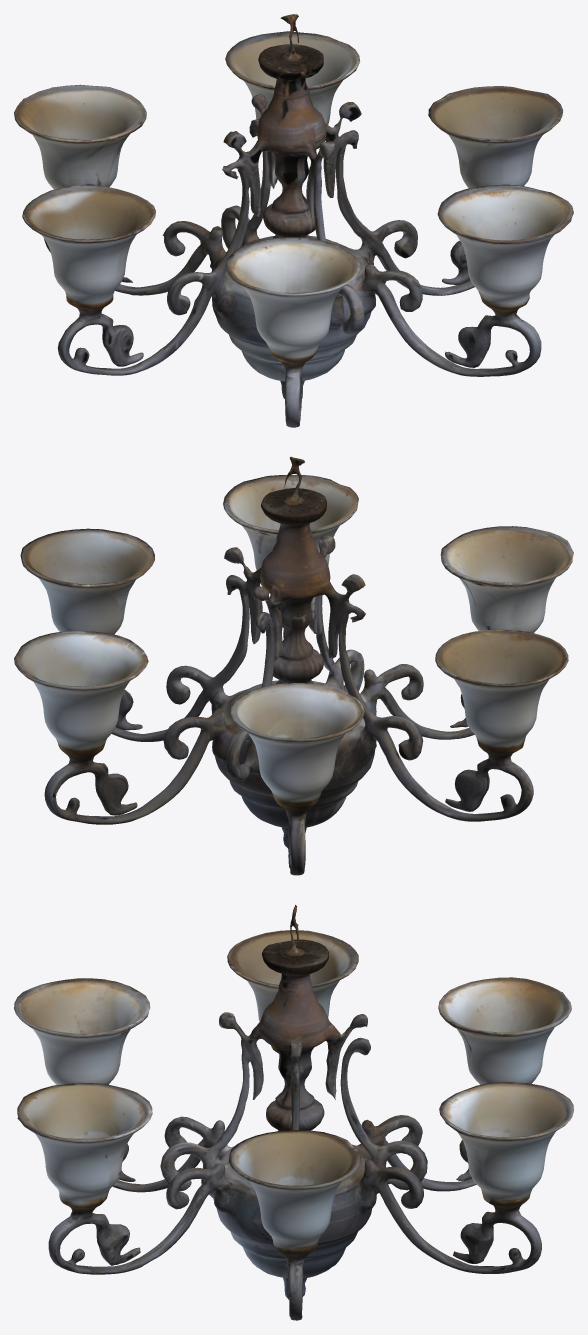
Rendered from Lamp_Chandelier.glb.
3 renders of one model, top to bottom at view 1: azimuth 30°, elevation 25°; view 2: azimuth 150°, elevation 25°; view 3: azimuth 270°, elevation 25°, orthographic.
Parts seen in each view (by area): view 1: Mesh_0; view 2: Mesh_0; view 3: Mesh_0.
Part boxes in pixels (<box>): Mesh_0: <box>14,14,573,427</box>; Mesh_0: <box>14,456,573,875</box>; Mesh_0: <box>14,905,573,1320</box>.
Bounding box in the file's own units: 0.9963 × 0.7258 × 0.915.
1 material, 1 textured.
